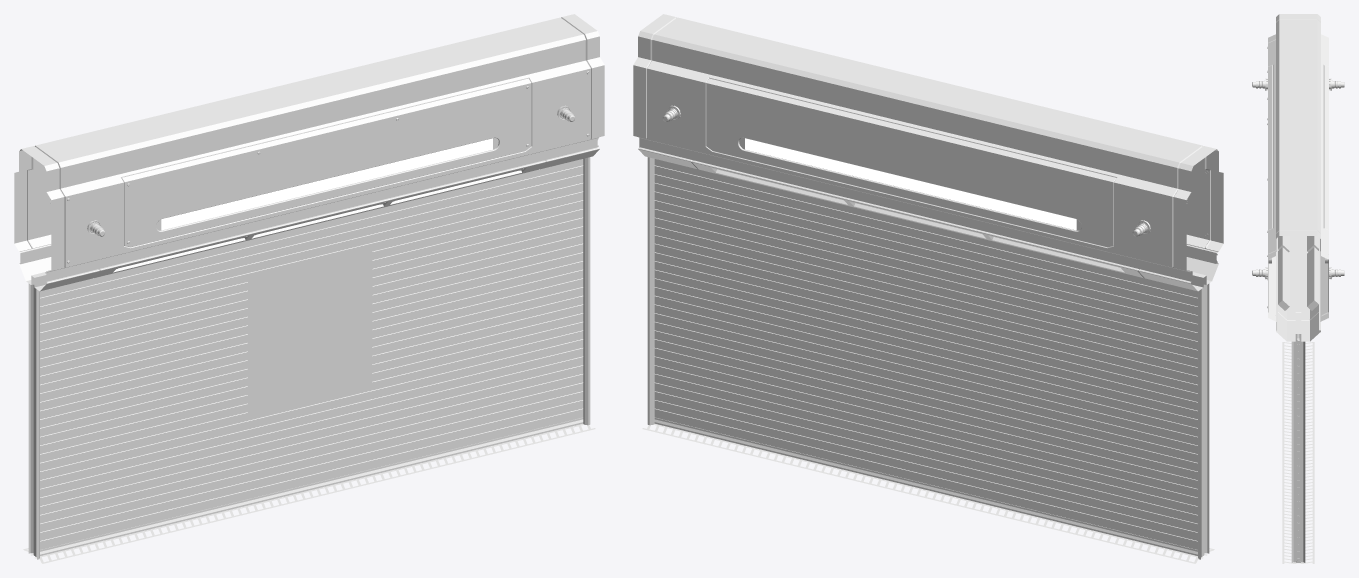
The model's file is KB3D_FTW_PropGarageDoor_B_grp.glb.
3 renders of one model, left to right at view 1: azimuth 30°, elevation 25°; view 2: azimuth 150°, elevation 25°; view 3: azimuth 270°, elevation 25°, orthographic. The views are drawn at different scales.
Visible parts, largest first — view 1: KB3D_FTW_PropGarageDoor_B_Door, KB3D_FTW_PropGarageDoor_B_Frame; view 2: KB3D_FTW_PropGarageDoor_B_Door, KB3D_FTW_PropGarageDoor_B_Frame; view 3: KB3D_FTW_PropGarageDoor_B_Frame.
Part boxes in pixels (x1=…): KB3D_FTW_PropGarageDoor_B_Door: x1=40, y1=159, x2=583, y2=555; KB3D_FTW_PropGarageDoor_B_Frame: x1=14, y1=14, x2=604, y2=563; KB3D_FTW_PropGarageDoor_B_Door: x1=654, y1=159, x2=1197, y2=555; KB3D_FTW_PropGarageDoor_B_Frame: x1=633, y1=14, x2=1223, y2=563; KB3D_FTW_PropGarageDoor_B_Frame: x1=1252, y1=14, x2=1344, y2=563.
Bounding box in the file's own units: 14 × 9.65 × 2.46.
Materials: 13 (3 with a texture image).
